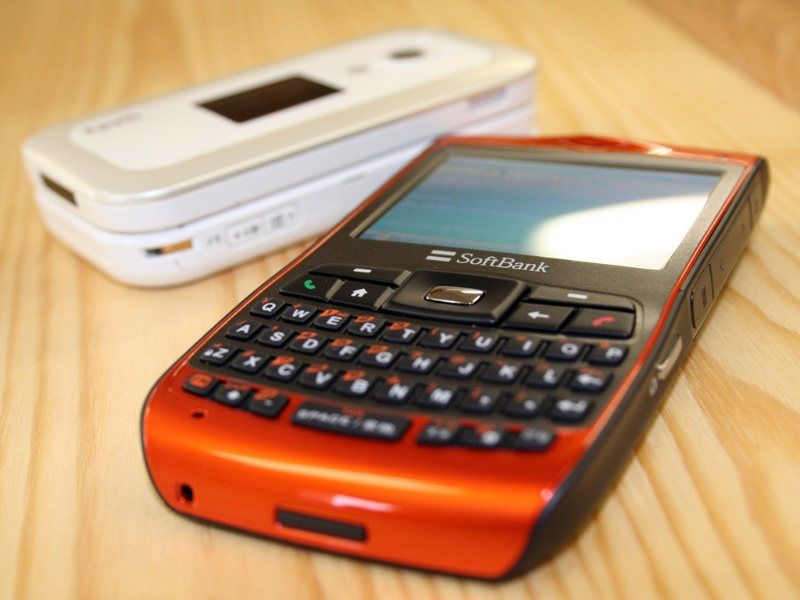cellphone: (111, 141, 775, 579)
